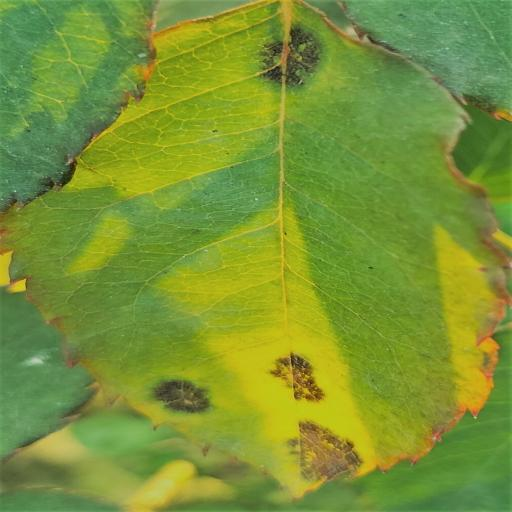black_spot: (3, 0, 507, 497)
